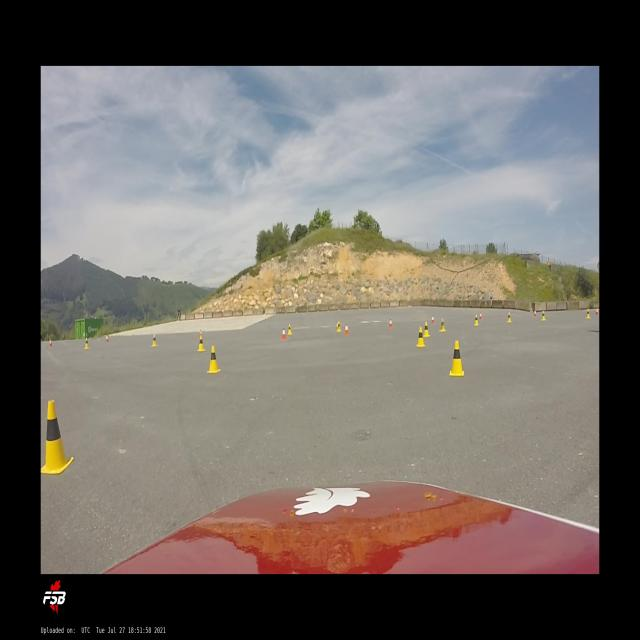orange_cone: (282, 326, 288, 341), (473, 314, 479, 326), (344, 323, 350, 335), (388, 318, 393, 329), (199, 328, 203, 339), (586, 309, 590, 319), (49, 338, 53, 348), (431, 314, 435, 324), (106, 334, 110, 343), (533, 310, 537, 318), (479, 312, 482, 320), (596, 307, 598, 316)
yellow_cone: (41, 400, 74, 474), (449, 340, 464, 376), (207, 346, 221, 374), (416, 326, 426, 347), (197, 335, 206, 352), (424, 321, 431, 337), (439, 318, 446, 332), (152, 334, 158, 347), (473, 314, 479, 326), (336, 320, 342, 332), (287, 323, 293, 335), (84, 338, 90, 350), (506, 312, 512, 323), (541, 311, 546, 321), (586, 309, 590, 319)
